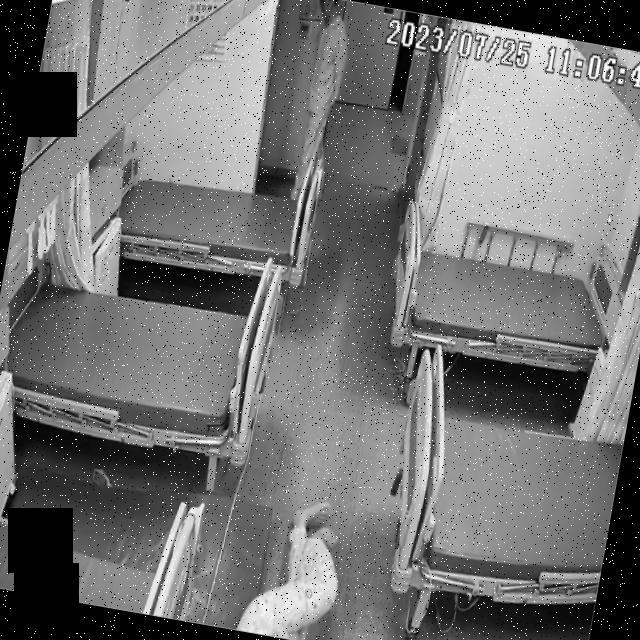bed: (376, 342, 634, 620), (0, 264, 278, 460), (379, 225, 630, 384), (114, 158, 316, 286)
fall: (235, 491, 349, 640)
patient: (235, 489, 352, 640), (292, 0, 356, 191)
